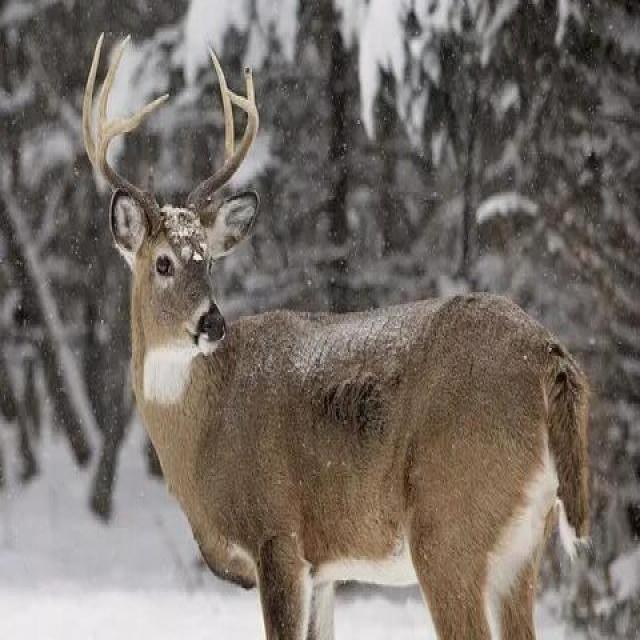deer: (69, 125, 621, 640)
